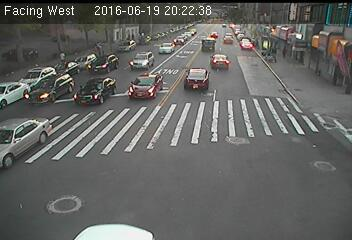neg: (47, 46, 79, 88), (133, 159, 162, 198), (231, 33, 260, 71), (224, 178, 252, 216), (10, 157, 38, 195), (256, 97, 284, 134), (45, 120, 72, 155), (144, 69, 170, 105), (302, 152, 327, 186), (46, 185, 71, 218), (221, 125, 245, 158), (97, 95, 121, 126), (190, 61, 213, 92), (162, 115, 184, 144), (299, 107, 321, 136), (87, 137, 107, 164), (82, 186, 98, 208), (120, 44, 135, 64)
